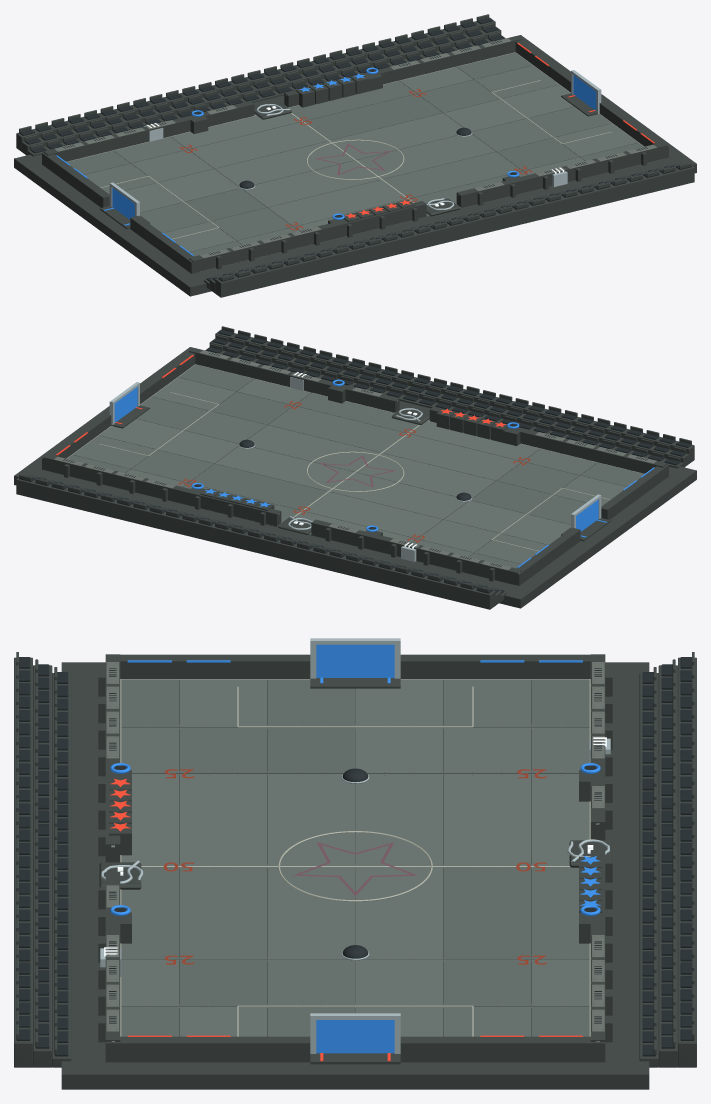
File: arena.glb
3 views of the same model, one above another, from view 1: azimuth 30°, elevation 25°; view 2: azimuth 150°, elevation 25°; view 3: azimuth 270°, elevation 25° (orthographic). The views are drawn at different scales.
Visible parts, largest first — view 1: Court plate finishes, Terrace steelwork, Arena foundation, Terrace seating, Impact barrier, Impact barrier.001, Impact barrier.002, Wall service panels, Floor seams, Impact barrier.003, End wall, End wall.001 (+4 smaller); view 2: Court plate finishes, Terrace steelwork, Arena foundation, Terrace seating, Impact barrier.003, Impact barrier.002, Impact barrier.001, Wall service panels, Floor seams, Impact barrier, End wall.001, End wall (+4 smaller); view 3: Court plate finishes, Arena foundation, Terrace steelwork, Terrace seating, Wall service panels, End wall.002, End wall.003, End wall, End wall.001, Floor seams, GoalShield_-21, GoalShield_21 (+10 smaller).
Part boxes in pixels (x1,y1,x2,y2): Court plate finishes: [67, 52, 643, 256]; Terrace steelwork: [16, 14, 694, 297]; Arena foundation: [14, 35, 696, 296]; Terrace seating: [19, 17, 691, 281]; Impact barrier: [189, 201, 426, 271]; Impact barrier.001: [456, 142, 667, 208]; Impact barrier.002: [43, 101, 254, 161]; Wall service panels: [54, 38, 656, 258]; Floor seams: [84, 65, 636, 252]; Impact barrier.003: [284, 36, 521, 107]; End wall: [130, 215, 199, 273]; End wall.001: [42, 152, 109, 207]; Court plate finishes: [67, 364, 643, 568]; Terrace steelwork: [16, 326, 694, 609]; Arena foundation: [14, 347, 696, 608]; Terrace seating: [19, 329, 691, 593]; Impact barrier.003: [43, 454, 281, 526]; Impact barrier.002: [311, 519, 521, 584]; Impact barrier.001: [189, 348, 399, 412]; Wall service panels: [54, 350, 656, 570]; Floor seams: [74, 377, 626, 564]; Impact barrier: [429, 406, 667, 473]; End wall.001: [511, 527, 580, 585]; End wall: [601, 464, 668, 519]; Court plate finishes: [121, 679, 589, 1036]; Arena foundation: [61, 662, 649, 1089]; Terrace steelwork: [14, 652, 696, 1067]; Terrace seating: [16, 657, 694, 1056]; Wall service panels: [106, 662, 604, 1031]; End wall.002: [105, 1036, 310, 1062]; End wall.003: [400, 1036, 605, 1062]; End wall: [120, 654, 310, 678]; End wall.001: [400, 654, 590, 678]; Floor seams: [121, 680, 589, 1036]; GoalShield_-21: [316, 644, 394, 677]; GoalShield_21: [316, 1020, 394, 1053].
Size of the model in its own units: 46.5 by 2.97 by 32.55.
